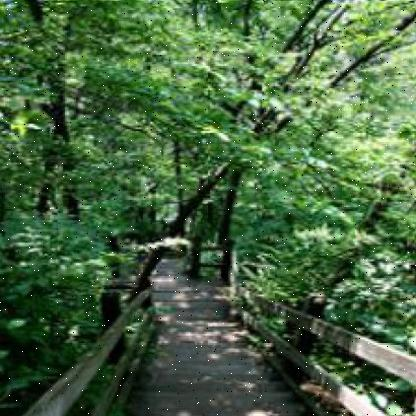stair_up: (83, 268, 340, 416)
